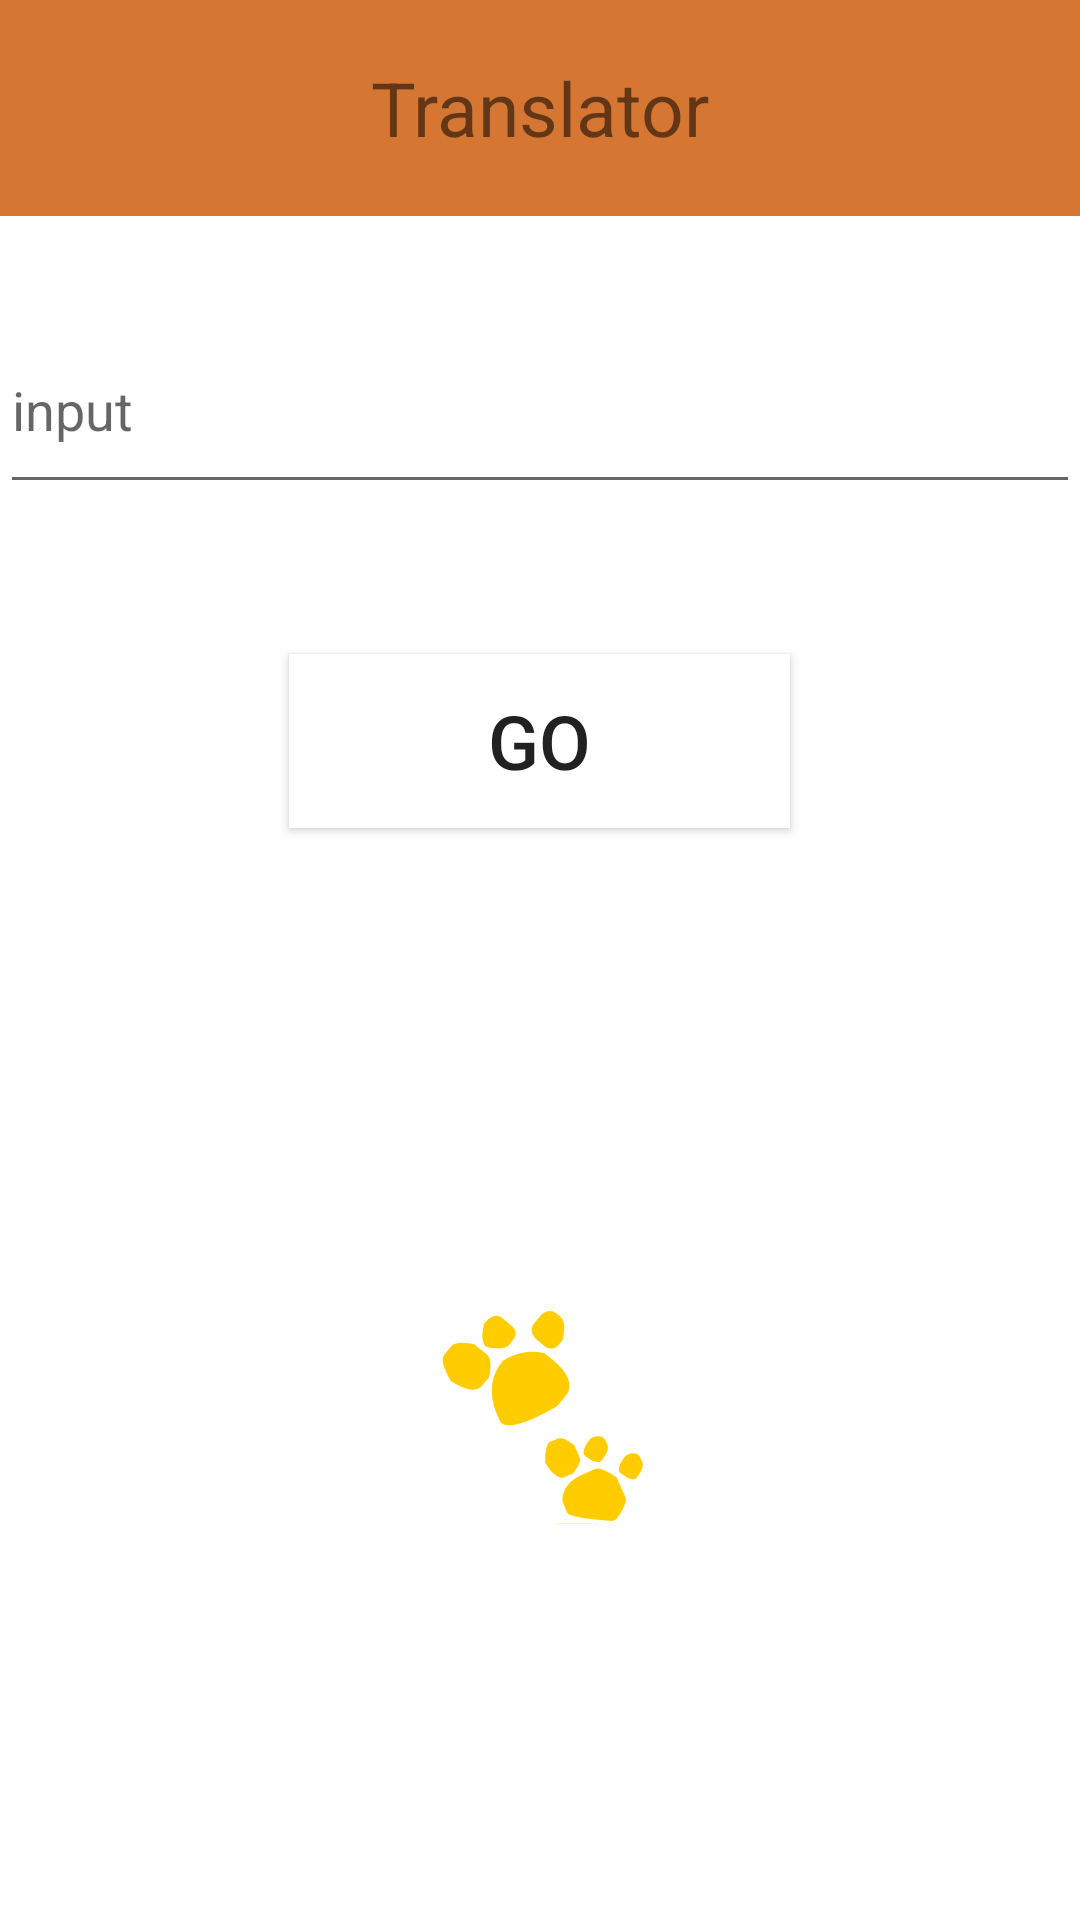

Screen size 1080w x 1920h. Icon name, then its box in pixels as (left=x1, top=y1, right=x2, bottom=y2):
foot: (left=442, top=1310, right=643, bottom=1524)
